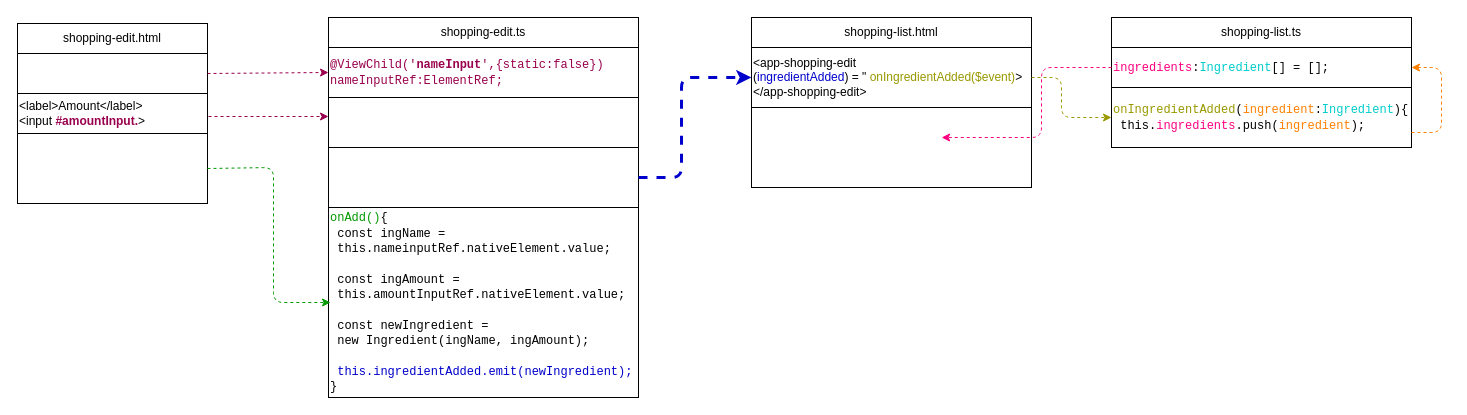
Image size: 1467x415. Some labels were removed from this diagram. Here are the shapes that lost their labels. From the top down, the centre of each, then its label:
[112,73]: <label>Name</label> <input #nameInput .>
[483,122]: @ViewChild(' amountInput ',{static:false}) amountInputRef:ElementRef;
[891,147]: <ul> <a *ngFor = "let i of ingredients "> {{i.name}} ({{i.amount}}) </a> </ul>
[112,168]: <button (click) = " onAdd() "> Add </button>
[483,177]: @Output() ingredientAdded = new EventEmitter<Ingredient>();
